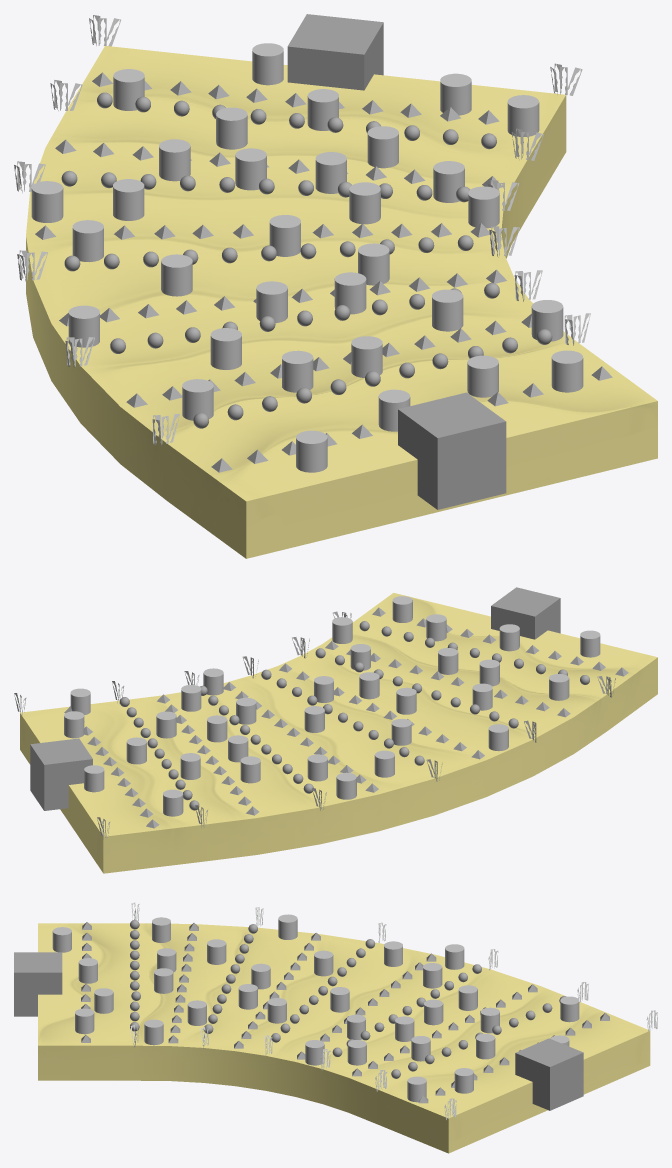
The model's file is assets009_Streckenteil_rechts001.fbx.
3 renders of one model, top to bottom at view 1: azimuth 30°, elevation 25°; view 2: azimuth 150°, elevation 25°; view 3: azimuth 270°, elevation 25°, orthographic. The views are drawn at different scales.
Parts seen in each view (by area): view 1: streckenteil_rechtskurve_geo1, b (×12), a (×12), startpoint, c (×7), startpoint1, d; view 2: streckenteil_rechtskurve_geo1, b (×12), a (×12), c (×7), startpoint1, startpoint, d; view 3: streckenteil_rechtskurve_geo1, a (×12), b (×12), startpoint1, c (×6), startpoint, d.
Boxes of the visible parts, x1,y1,x2,y2 form: streckenteil_rechtskurve_geo1: (26, 46, 657, 558); b (×12): (31, 73, 499, 323); a (×12): (68, 272, 583, 472); startpoint: (398, 392, 506, 509); c (×7): (113, 43, 539, 224); startpoint1: (287, 14, 383, 90); d: (367, 126, 398, 168); streckenteil_rechtskurve_geo1: (20, 593, 657, 873); b (×12): (64, 668, 416, 799); a (×12): (332, 596, 600, 751); c (×7): (70, 688, 260, 816); startpoint1: (30, 738, 92, 810); startpoint: (491, 587, 560, 639); d: (156, 711, 176, 738); streckenteil_rechtskurve_geo1: (38, 923, 650, 1153); a (×12): (52, 914, 297, 1045); b (×12): (251, 941, 499, 1093); startpoint1: (515, 1038, 583, 1110); c (×6): (347, 985, 579, 1102); startpoint: (14, 952, 62, 1016); d: (411, 1036, 430, 1061).
Bounding box in the file's own units: 49.79 × 6.5 × 66.66.
